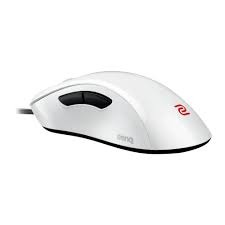mouse: (30, 70, 212, 160)
